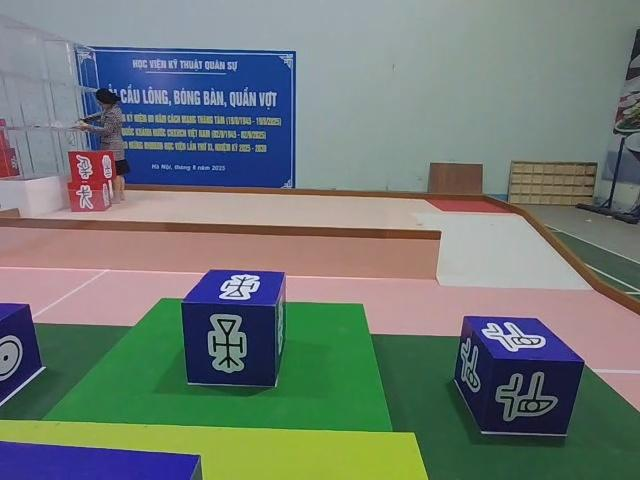R2 Real Blue: (454, 317, 584, 437), (182, 270, 286, 389), (0, 303, 46, 413)
